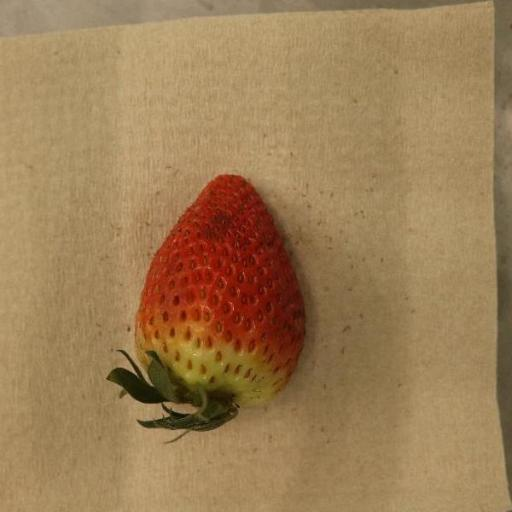Strawberry: (107, 175, 307, 433)
